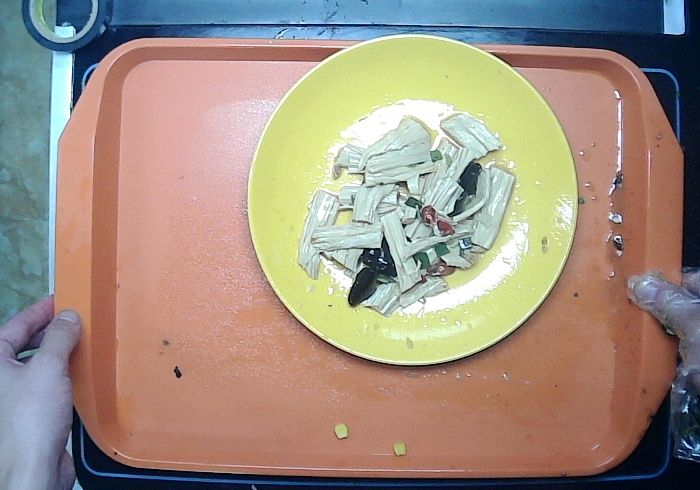HZYJPL-Huang_Se_Yuan_Pan: (246, 32, 580, 368)
